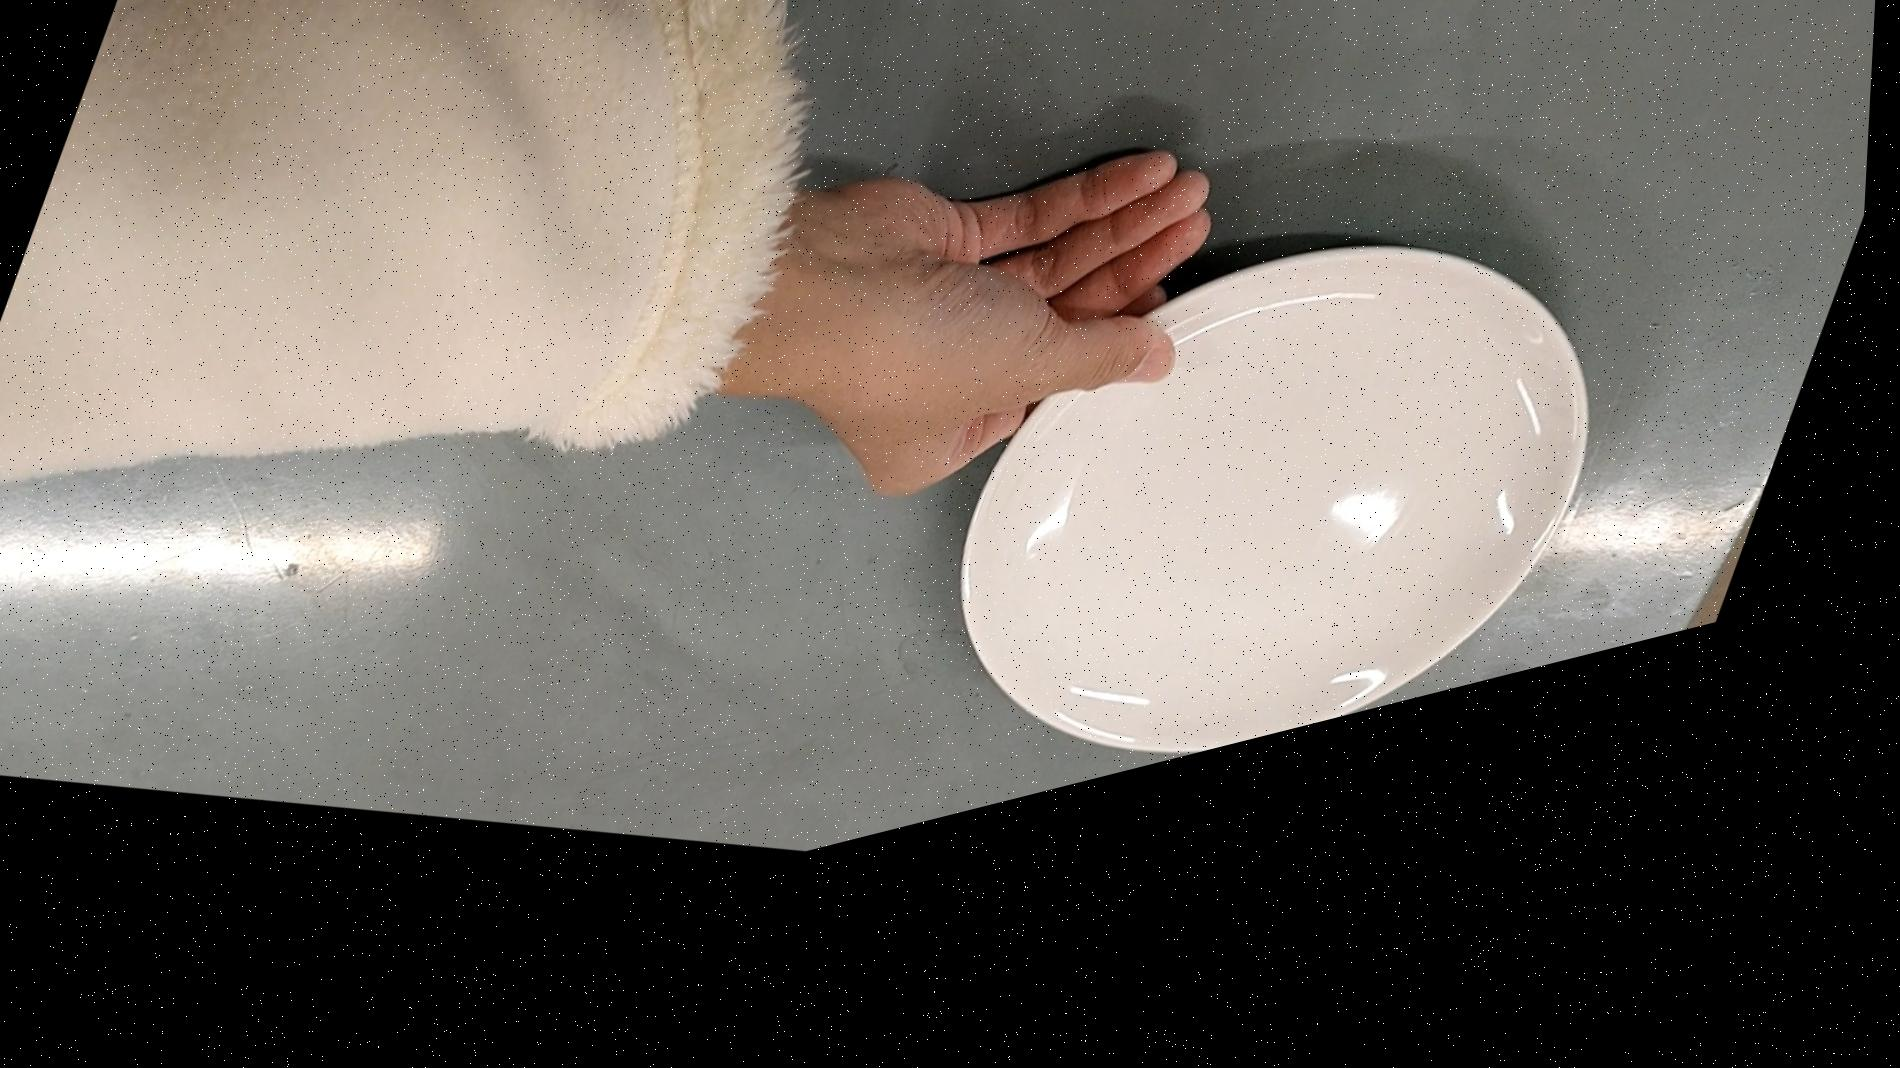plate: (898, 153, 1672, 880)
